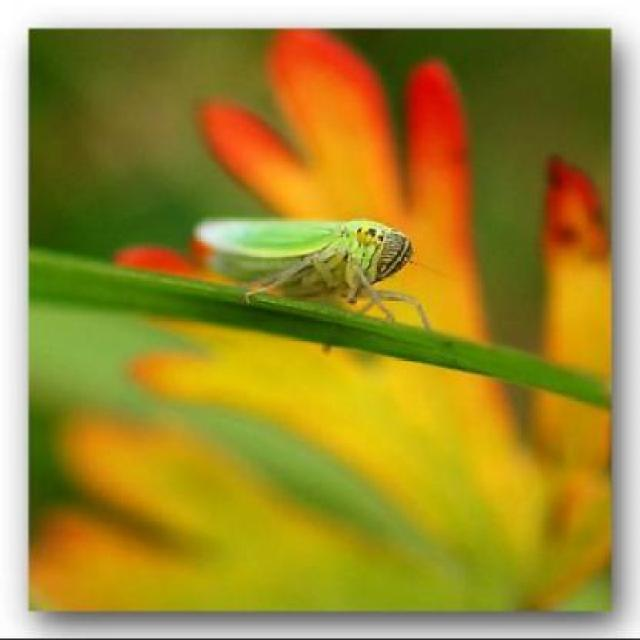green-leafhopper: (199, 212, 426, 328)
